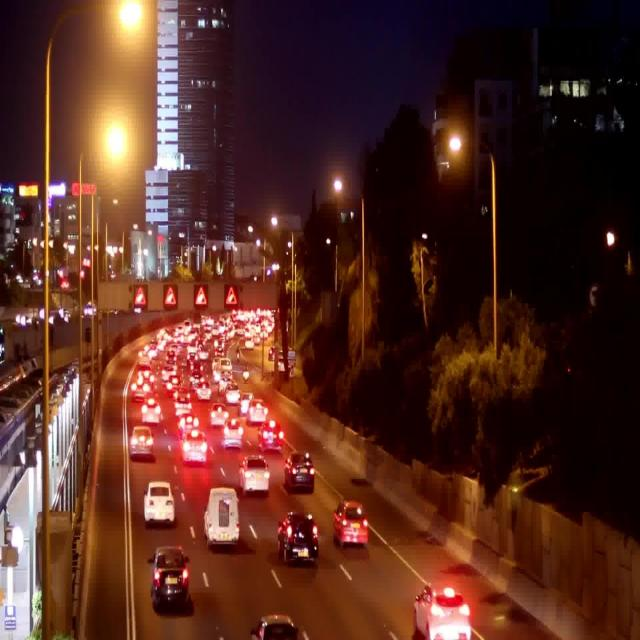Car: (412, 581, 471, 640), (148, 545, 190, 612), (276, 511, 318, 564), (333, 499, 369, 549), (143, 481, 176, 526), (237, 455, 270, 497), (250, 614, 300, 640), (285, 452, 314, 493), (183, 429, 209, 466), (258, 418, 284, 453), (130, 425, 156, 459), (222, 416, 243, 449), (247, 396, 267, 426), (178, 412, 200, 439), (141, 400, 162, 426), (208, 402, 229, 427), (238, 392, 256, 414), (131, 380, 149, 401), (174, 385, 192, 405), (225, 384, 241, 406), (189, 370, 206, 390), (196, 380, 212, 401), (161, 366, 177, 383), (219, 374, 234, 392), (219, 356, 232, 376), (186, 352, 200, 367), (165, 350, 177, 362), (244, 337, 254, 351), (268, 345, 276, 362), (277, 356, 284, 372)
Cycle: (243, 367, 250, 384), (236, 350, 240, 363)
Van: (203, 487, 240, 549)
